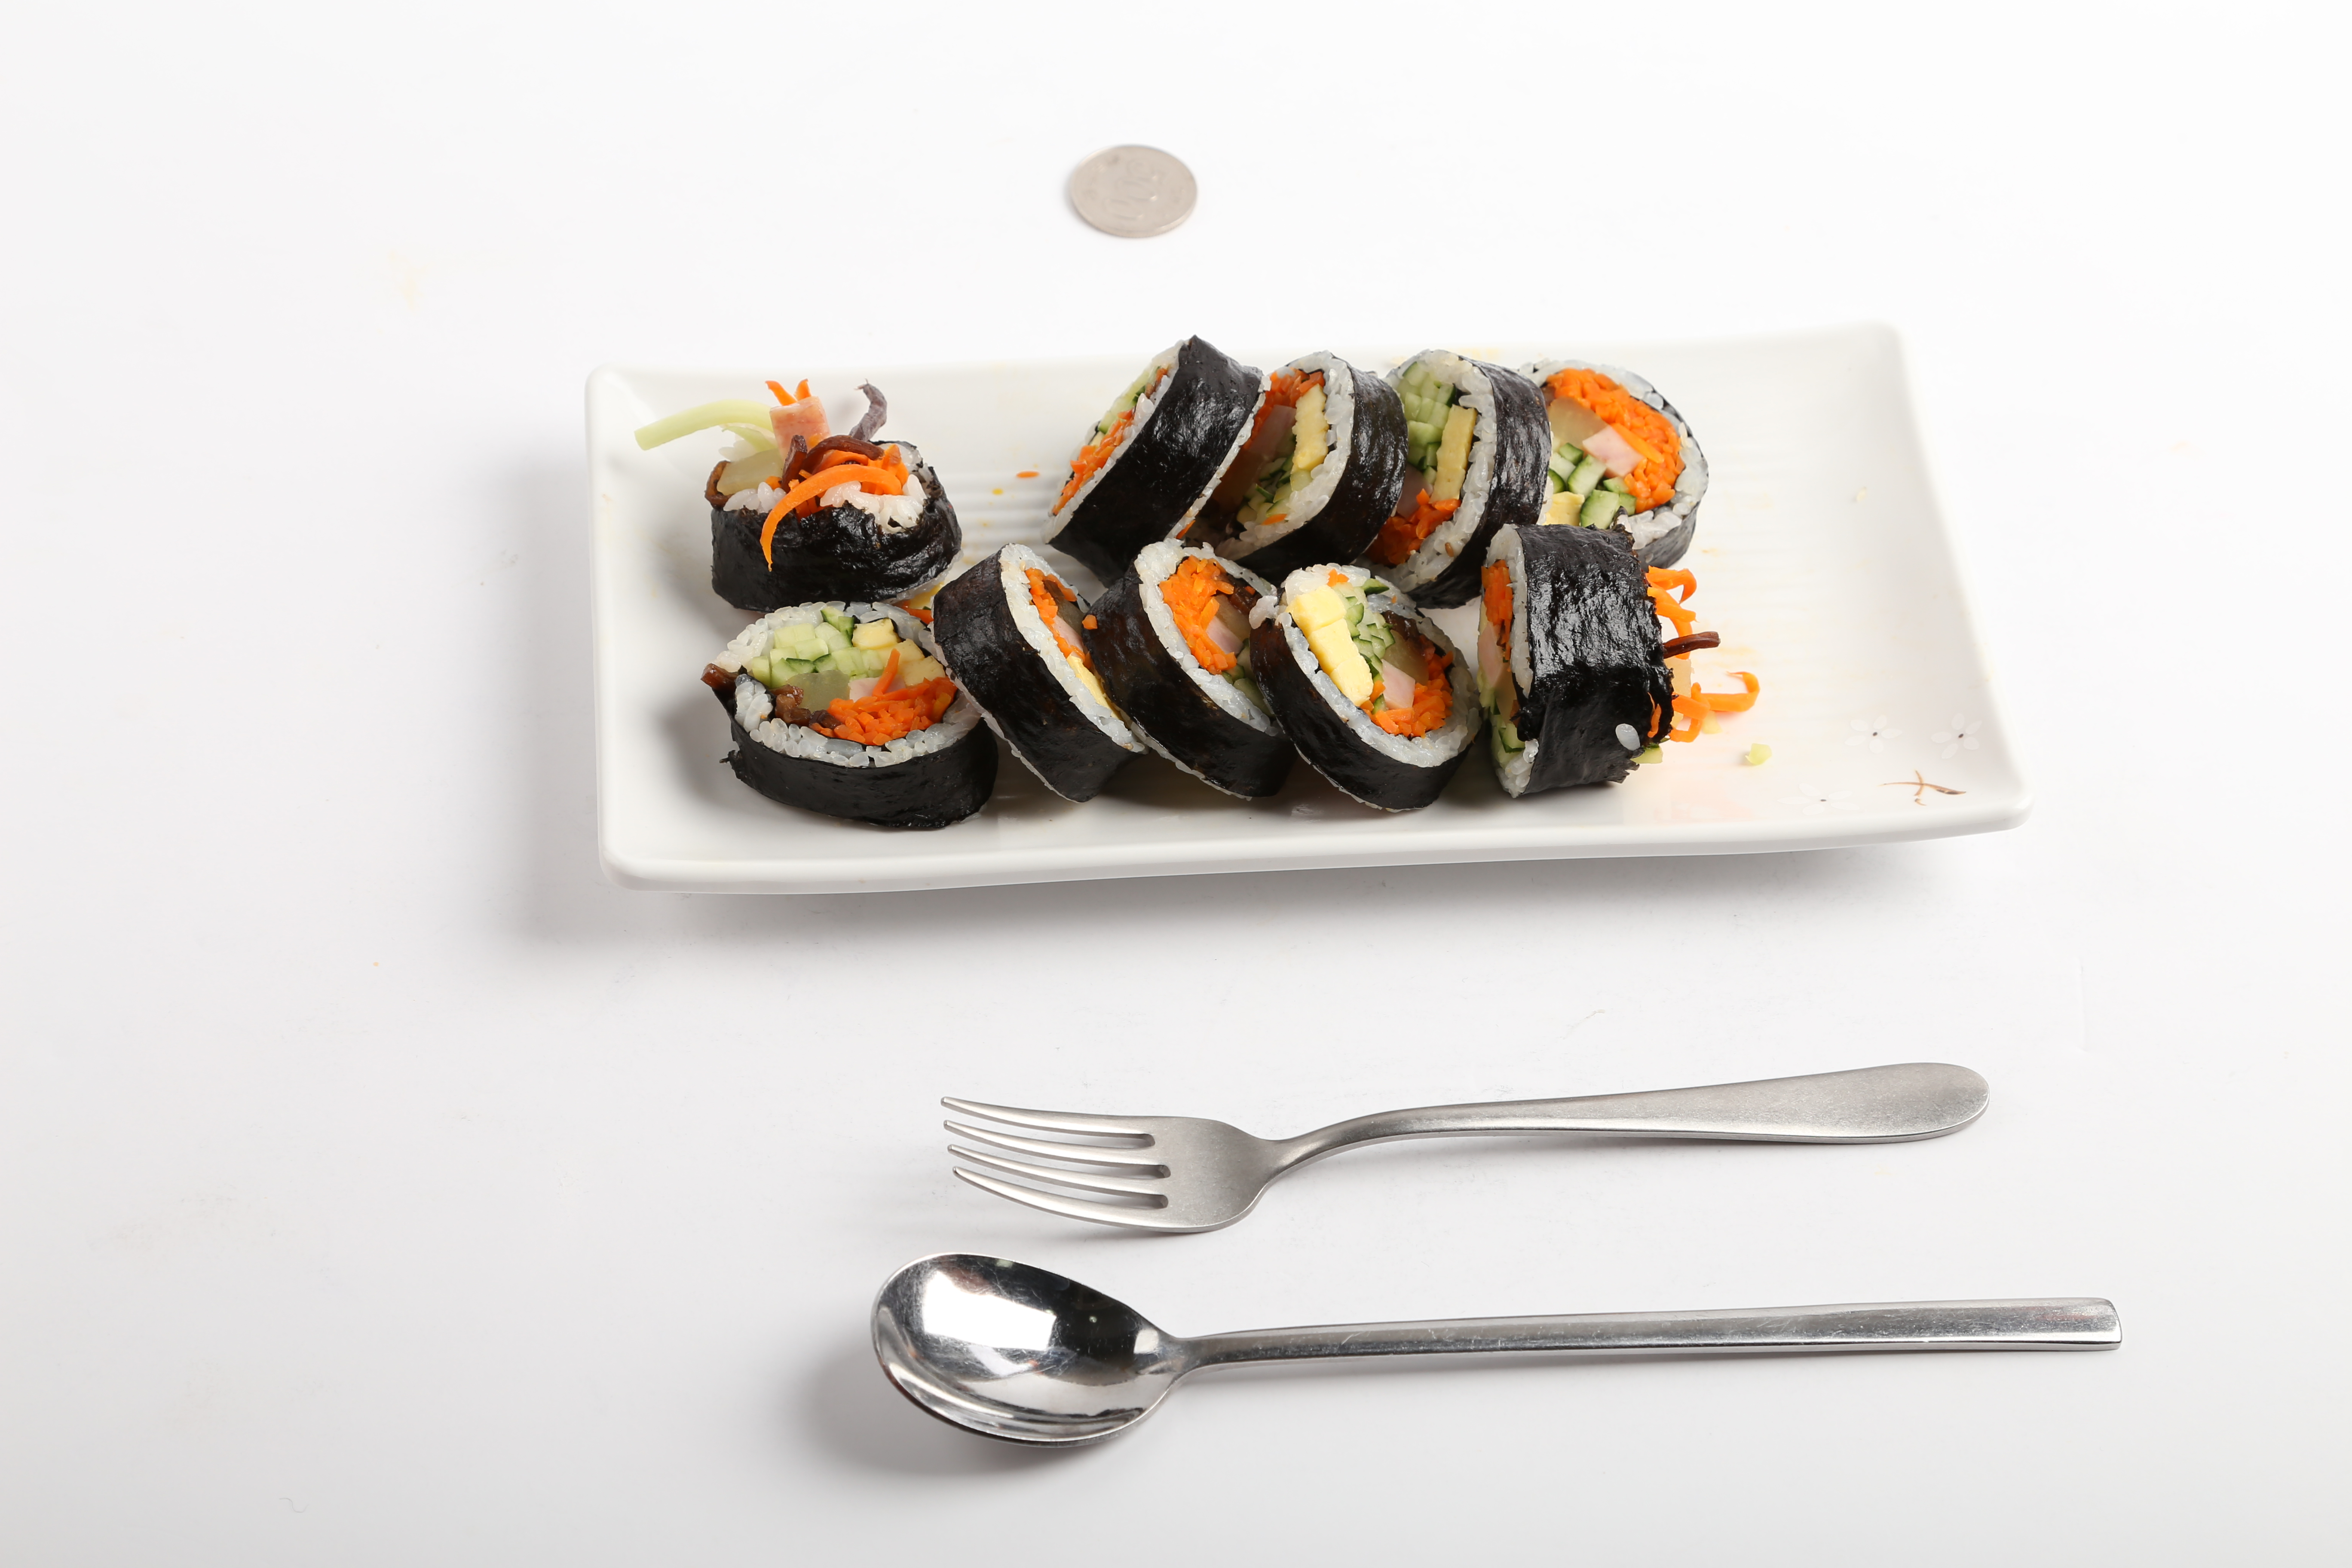dish: (581, 317, 2032, 903)
ref_coin: (1057, 136, 1202, 245)
ref_fork: (931, 1094, 1358, 1237)
ref_spoon: (863, 1249, 1255, 1456)
김밥: (707, 339, 1706, 831)
